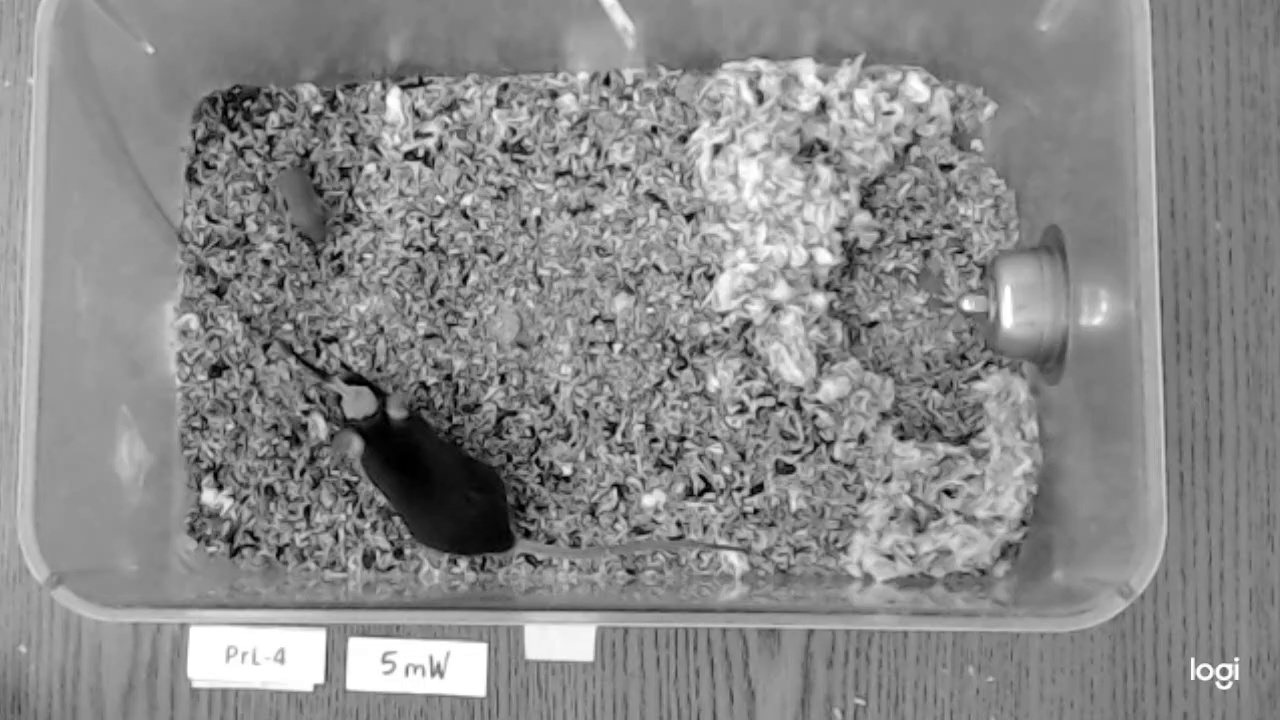parent-mice: (337, 370, 515, 554)
